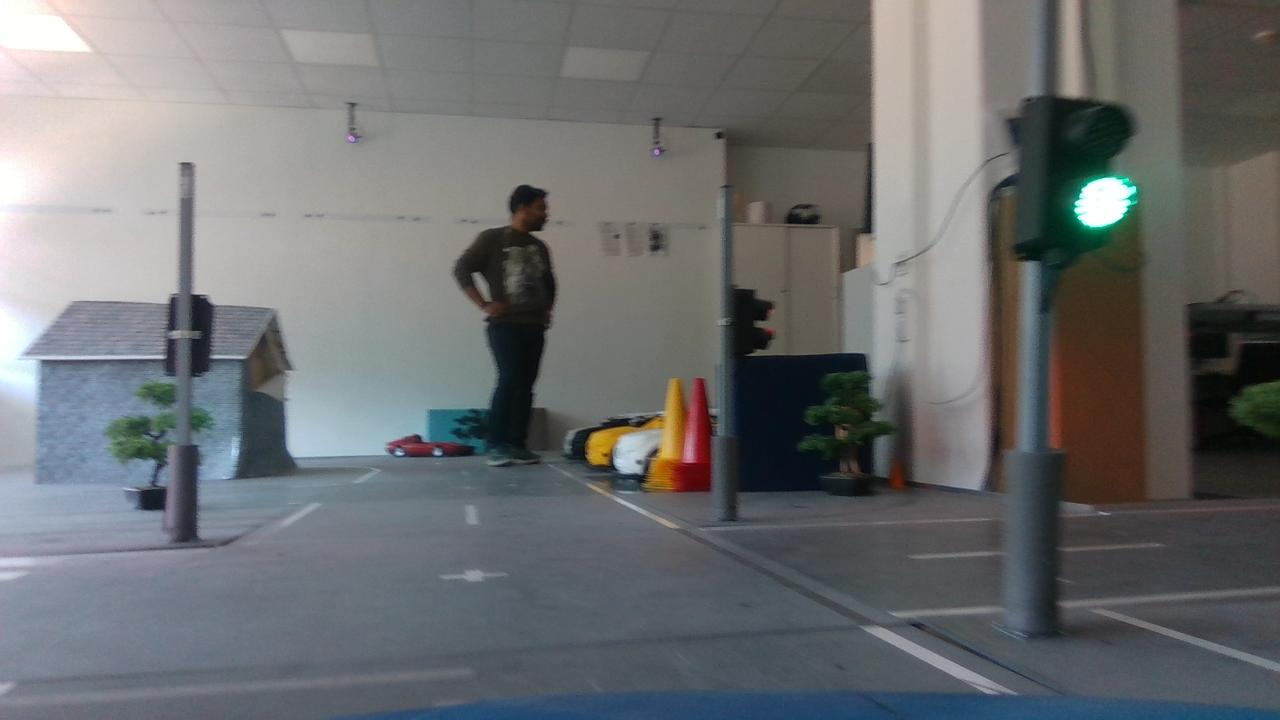traffic_light_green: (992, 81, 1152, 274)
